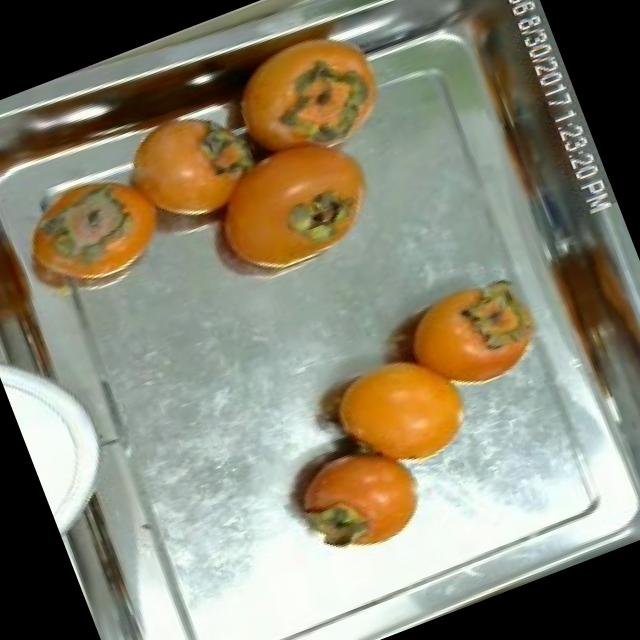Fruit: (168, 101, 407, 307), (202, 10, 412, 188), (0, 145, 195, 332), (384, 252, 566, 415), (315, 330, 494, 494), (268, 417, 444, 579)
